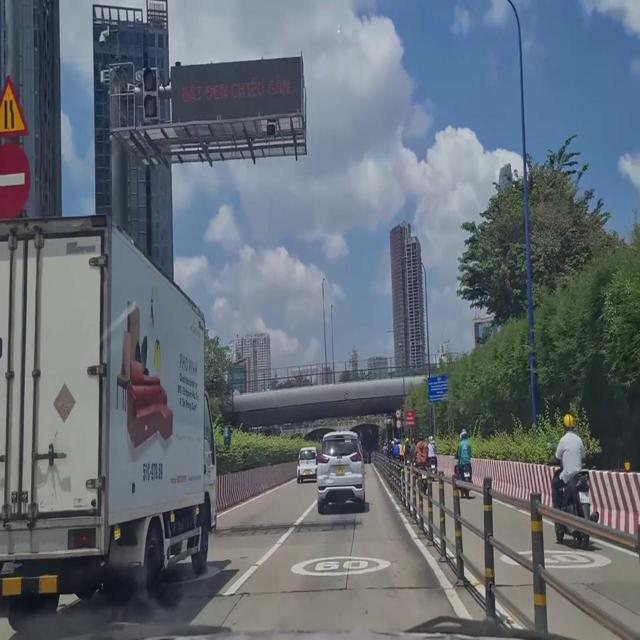Cấm đi ngược chiều: (2, 139, 31, 223)
Khác: (427, 373, 450, 398)
Đường hẹp: (1, 75, 40, 136)
